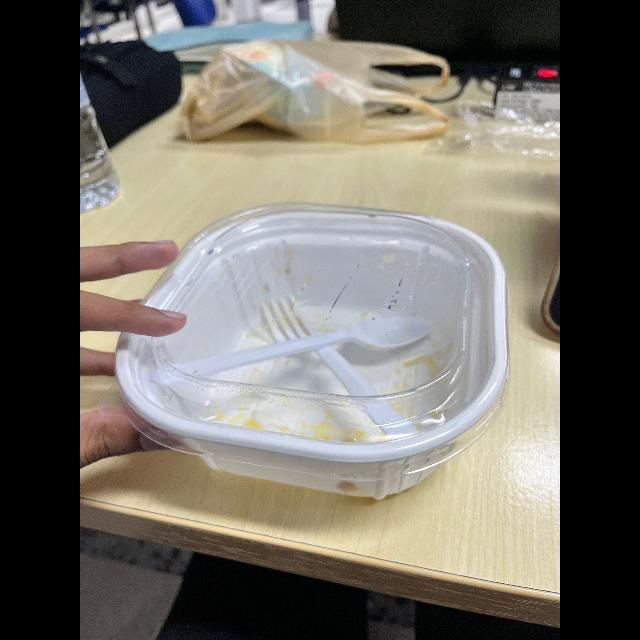plastic_box: (106, 202, 518, 502)
